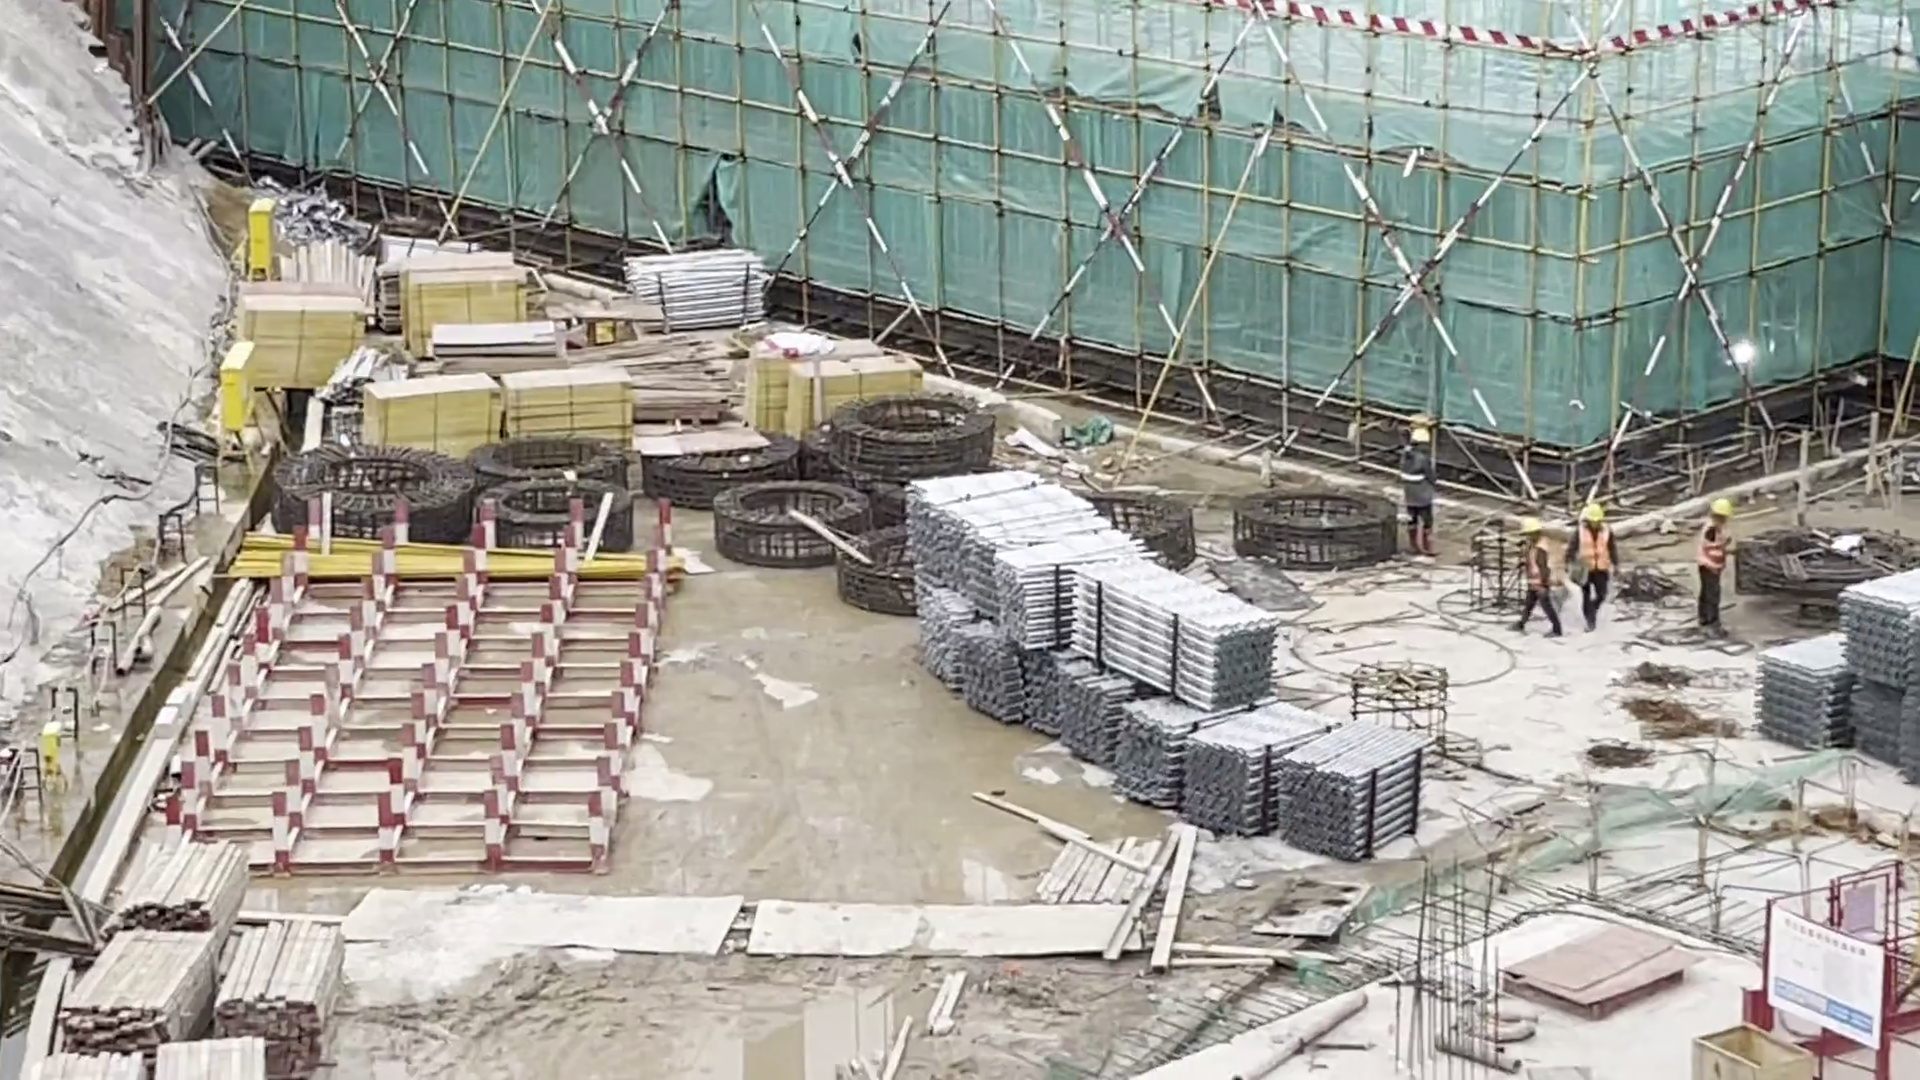board: (753, 347, 926, 446), (232, 293, 370, 387), (362, 367, 500, 453), (392, 263, 520, 351), (498, 370, 636, 449)
person: (1688, 493, 1736, 633), (1571, 503, 1612, 638), (1516, 512, 1558, 639), (1398, 422, 1435, 562)
scaffold: (906, 472, 1428, 864), (1754, 562, 1920, 764)
vest: (1699, 523, 1730, 575), (1579, 527, 1609, 570), (1524, 544, 1552, 588)
wood: (61, 831, 341, 1080)
